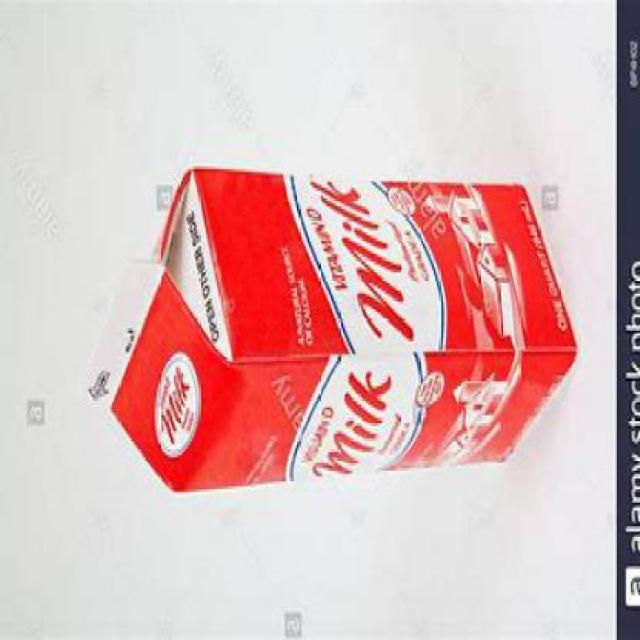non_white_jug: (81, 162, 580, 498)
